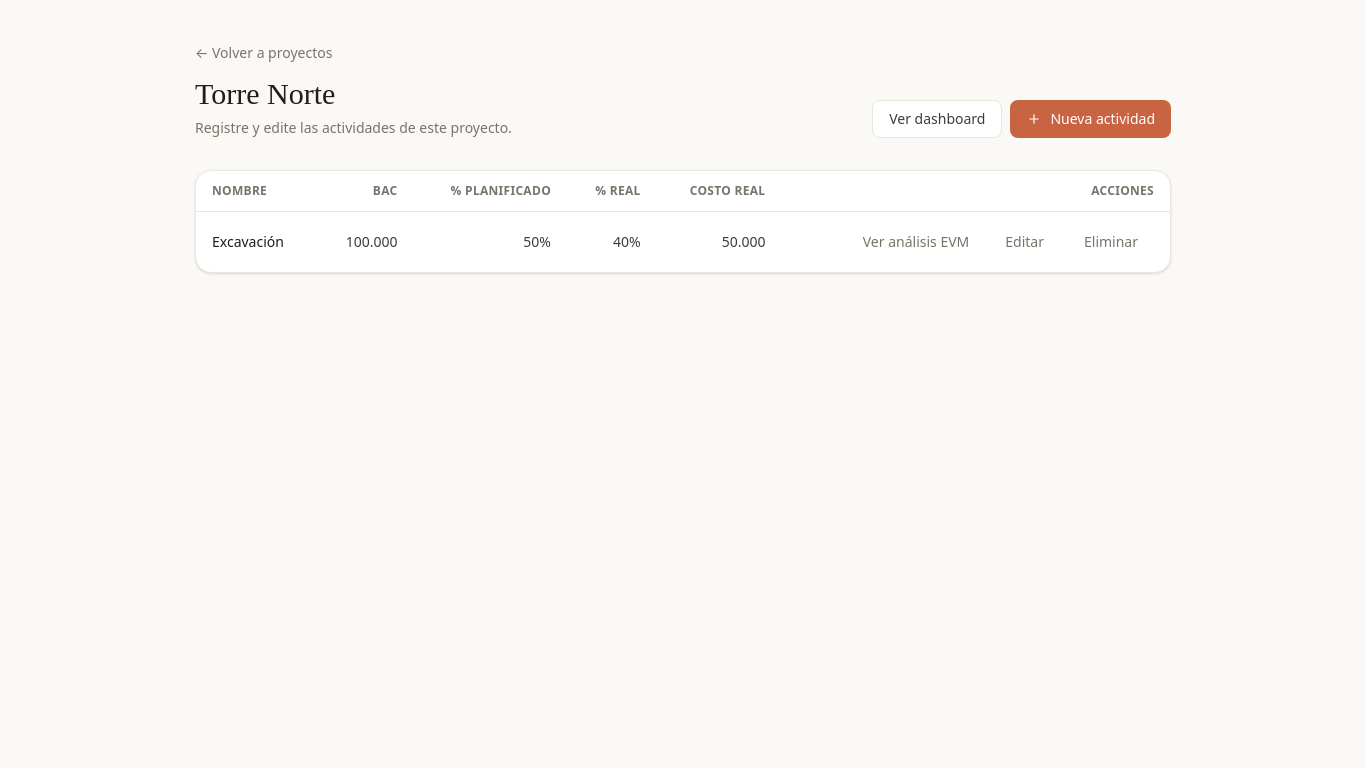
ActividadesListado › fetches the latest activity data before opening the edit form
Expected: the text "Excavación" is shown, x1=196 y1=212 x2=316 y2=272
Click the button "Editar" at (1025, 242), box x1=989 y1=224 x2=1060 y2=260
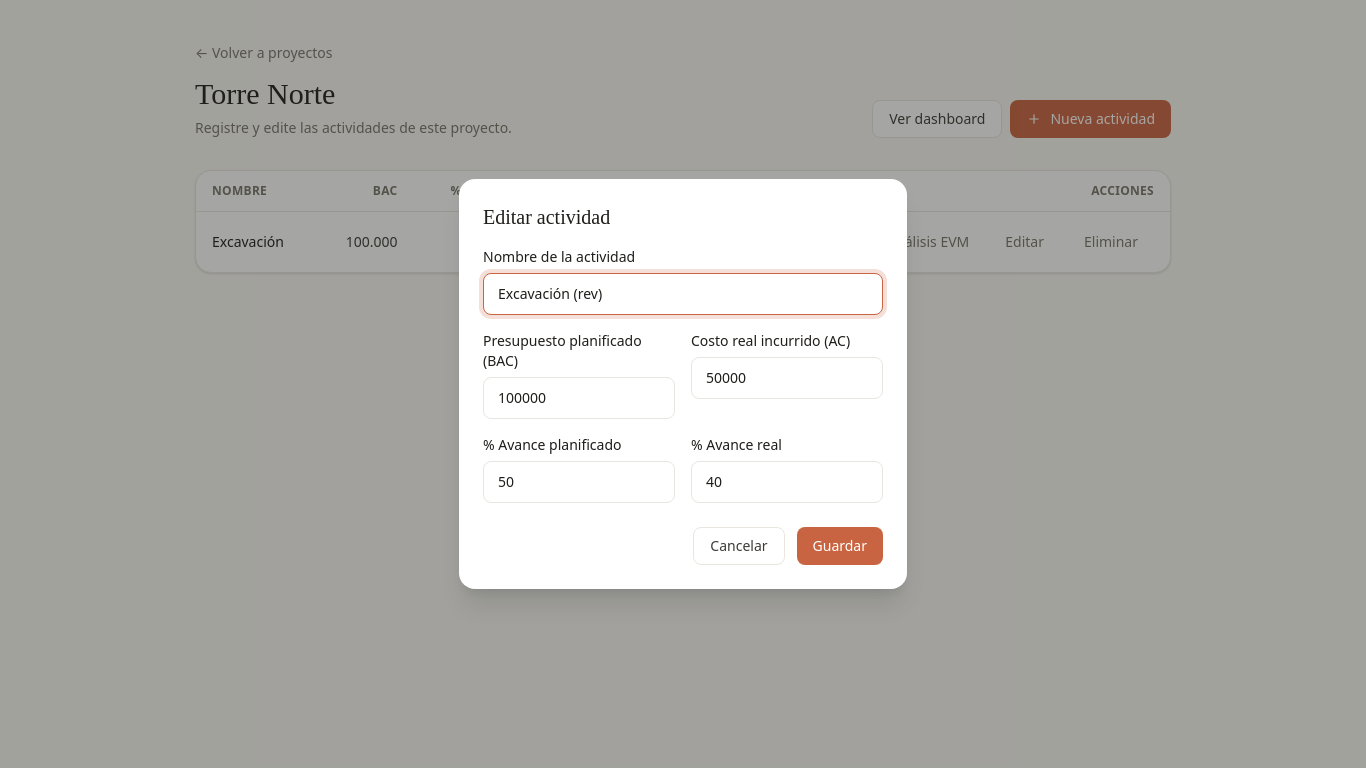
Expected: the field labelled "Nombre de la actividad" holds "Excavación (rev)", x1=483 y1=273 x2=883 y2=315
